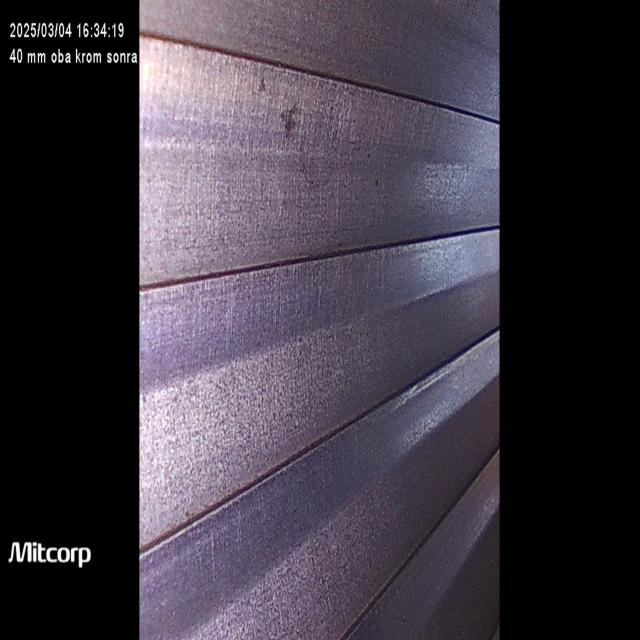hata_4.2: (250, 47, 276, 119), (281, 90, 299, 154)
